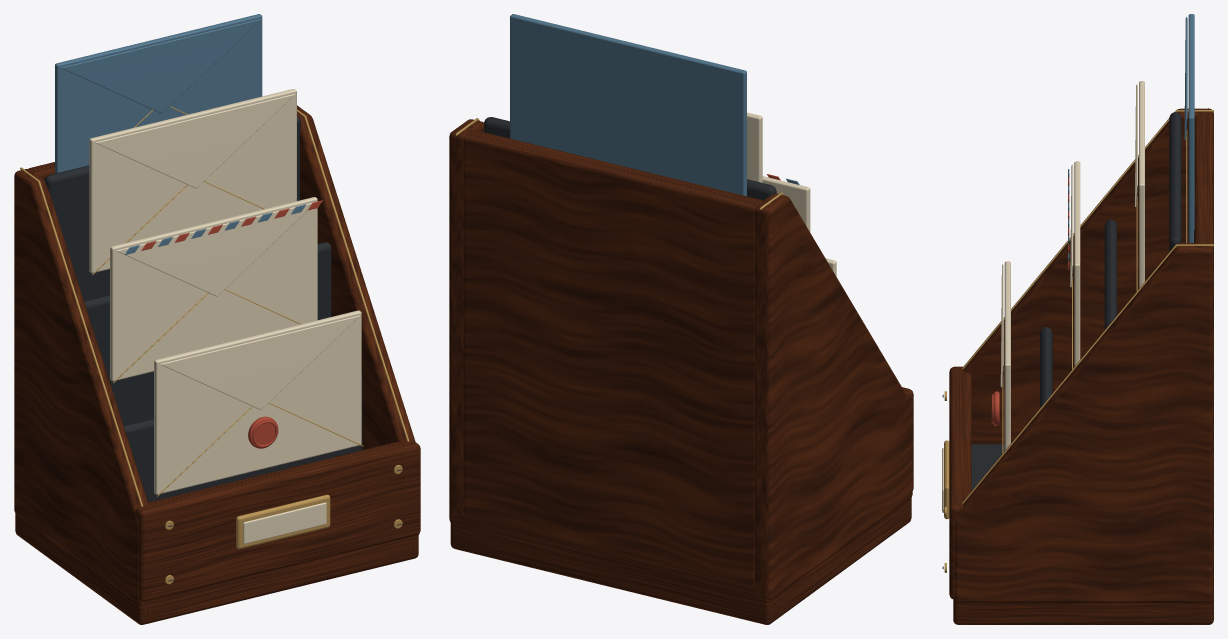
Rendered from escritorio_organizador_vertical.glb.
3 renders of one model, left to right at view 1: azimuth 30°, elevation 25°; view 2: azimuth 150°, elevation 25°; view 3: azimuth 270°, elevation 25°, orthographic. The views are drawn at different scales.
Parts seen in each view (by area): view 1: organizador_vertical; view 2: organizador_vertical; view 3: organizador_vertical.
Boxes of the visible parts, x1,y1,x2,y2 form: organizador_vertical: (14, 14, 420, 624); organizador_vertical: (449, 14, 913, 624); organizador_vertical: (942, 14, 1213, 624).
Size of the model in its own units: 0.272 by 0.4375 by 0.219.
6 materials, 1 textured.
